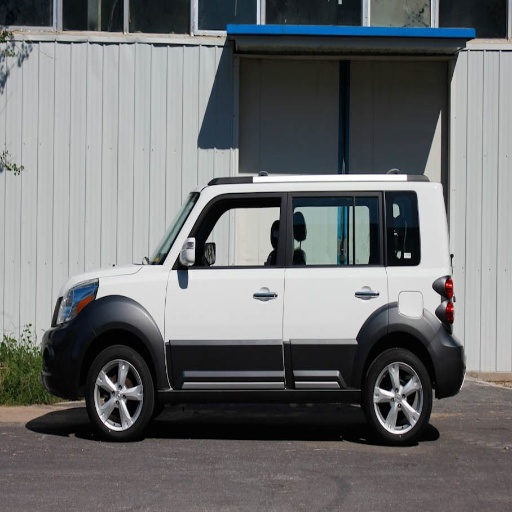back_left_door: (288, 185, 387, 386)
front_left_door: (165, 190, 288, 383)
